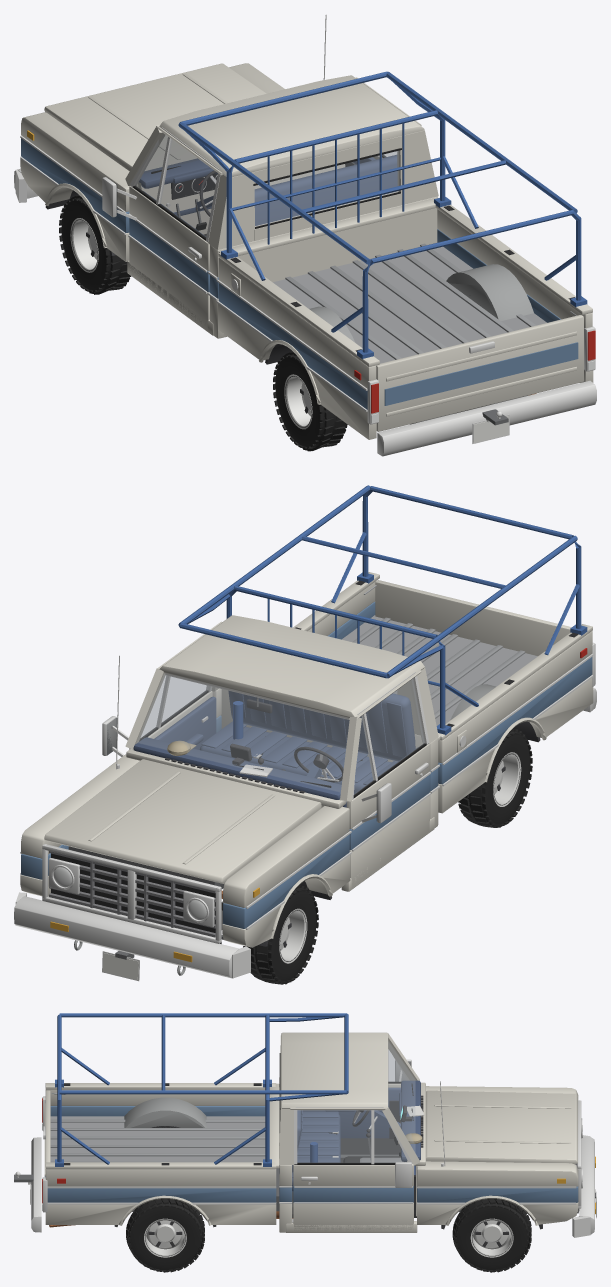
Rendered from pickup.glb.
The picture shows the model from 3 angles, top to bottom: view 1: azimuth 30°, elevation 25°; view 2: azimuth 150°, elevation 25°; view 3: azimuth 270°, elevation 25°; orthographic projection. The views are drawn at different scales.
Parts seen in each view (by area): view 1: pickup_body, door_L_mesh, wheel_RL_t, wheel_FL_t; view 2: pickup_body, door_L_mesh, door_R_mesh, wheel_RL_t, wheel_FL_t; view 3: pickup_body, door_R_mesh, wheel_FR_t, wheel_RR_t, door_L_mesh.
Boxes of the visible parts, x1,y1,x2,y2 form: pickup_body: (14, 14, 596, 456); door_L_mesh: (102, 127, 220, 330); wheel_RL_t: (273, 351, 347, 451); wheel_FL_t: (59, 194, 131, 294); pickup_body: (14, 485, 596, 981); door_L_mesh: (343, 672, 430, 887); door_R_mesh: (102, 675, 216, 756); wheel_RL_t: (458, 729, 532, 827); wheel_FL_t: (243, 885, 318, 984); pickup_body: (14, 1013, 596, 1237); door_R_mesh: (293, 1107, 413, 1231); wheel_FR_t: (452, 1199, 531, 1272); wheel_RR_t: (126, 1199, 204, 1272); door_L_mesh: (303, 1051, 411, 1138).
Bounding box in the file's own units: 2.49 × 2.13 × 5.89.
